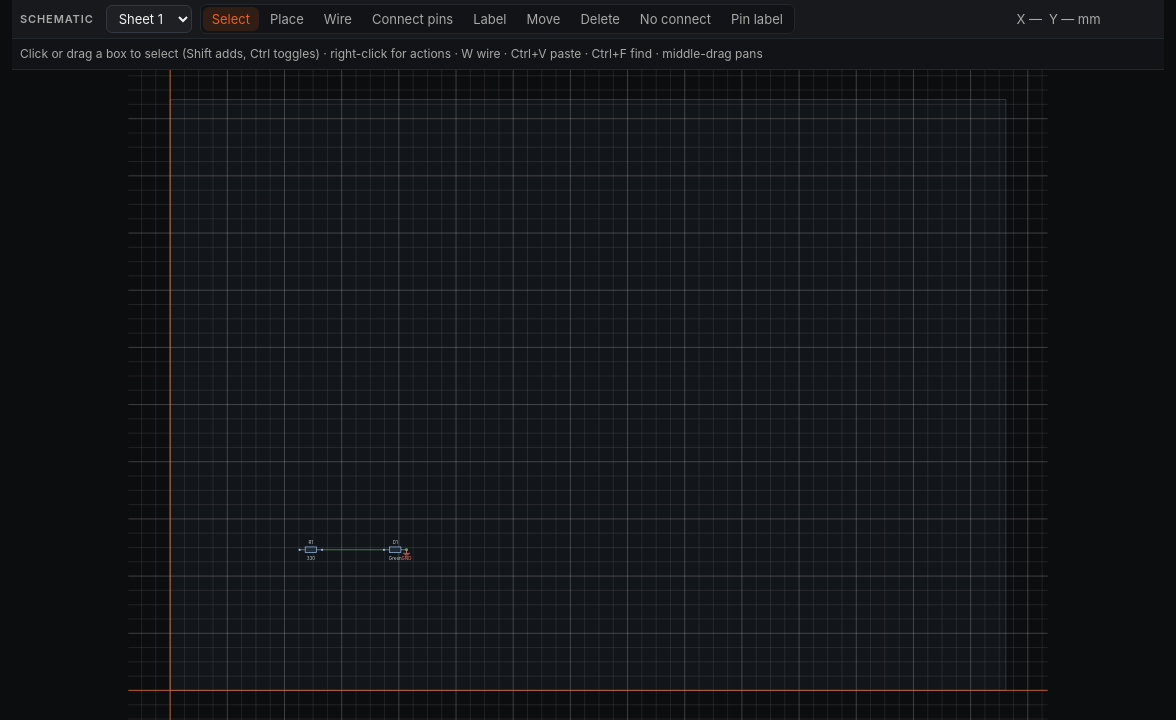
Test: slice B3 editing set in the schematic editor › publishes its operations for the action registry; each multi-object edit is one Batch
Press a
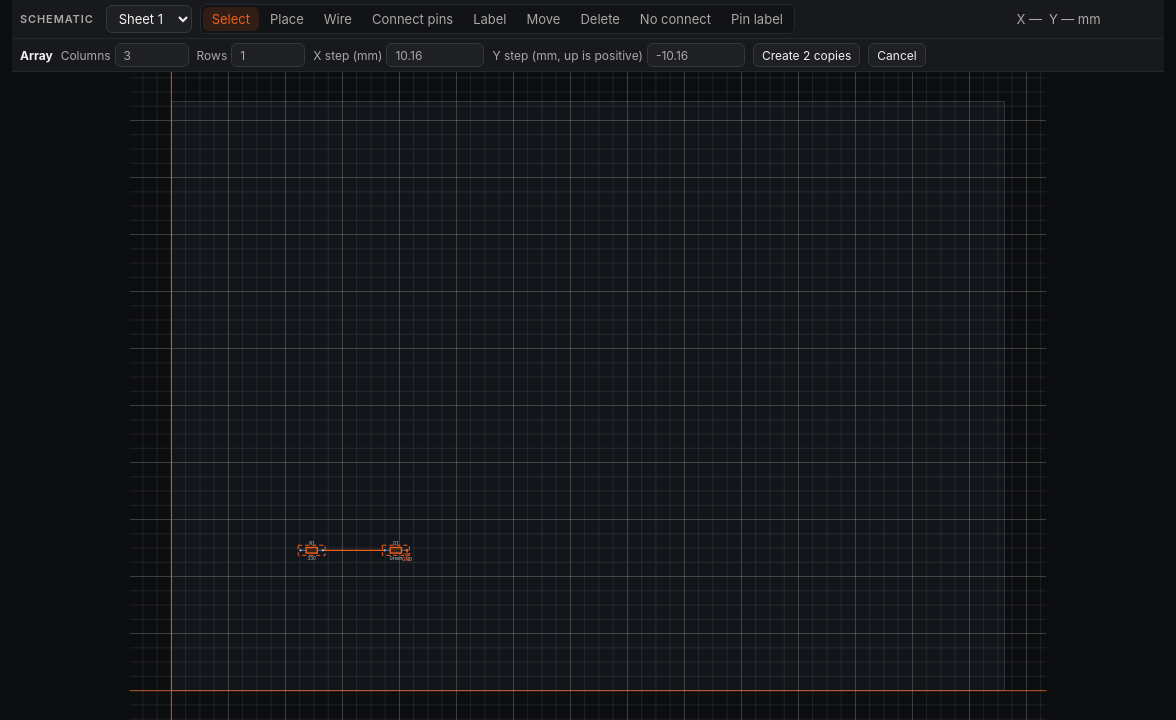
// Array: an inline panel, then one Batch of copies
Replace the text in the field labelled "Columns" with "2" at (152, 55), box [115, 43, 189, 67]
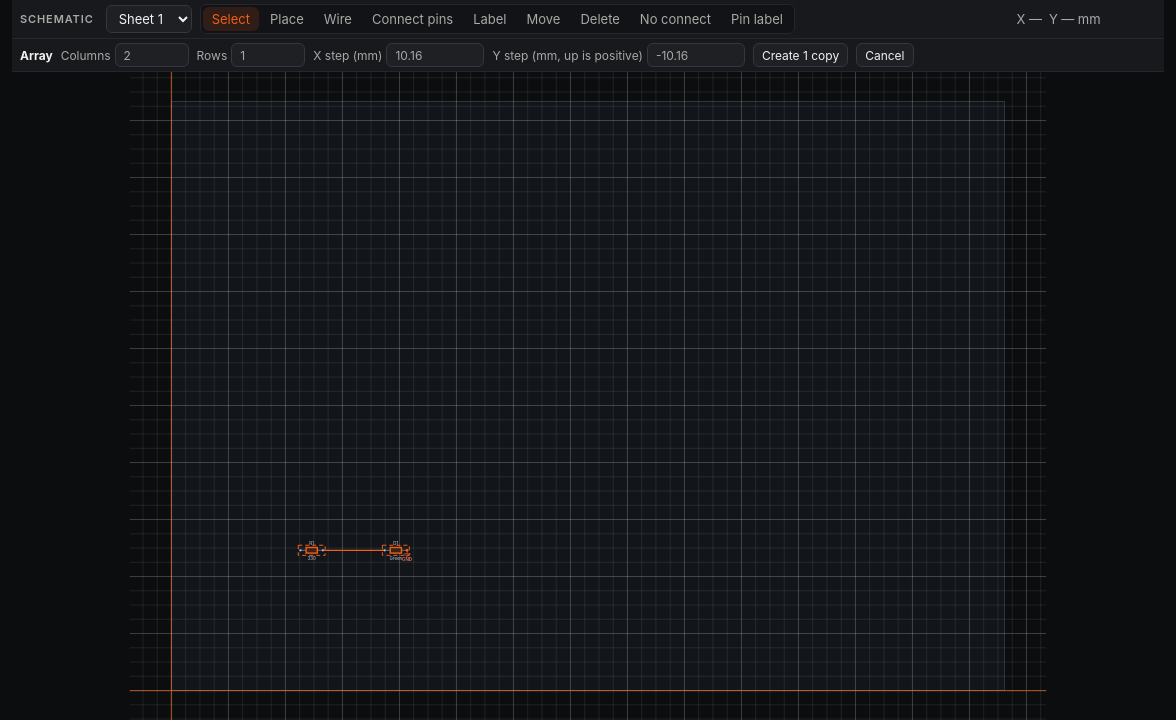
Click the button "Create 1 copy" at (801, 55), box [753, 43, 848, 67]
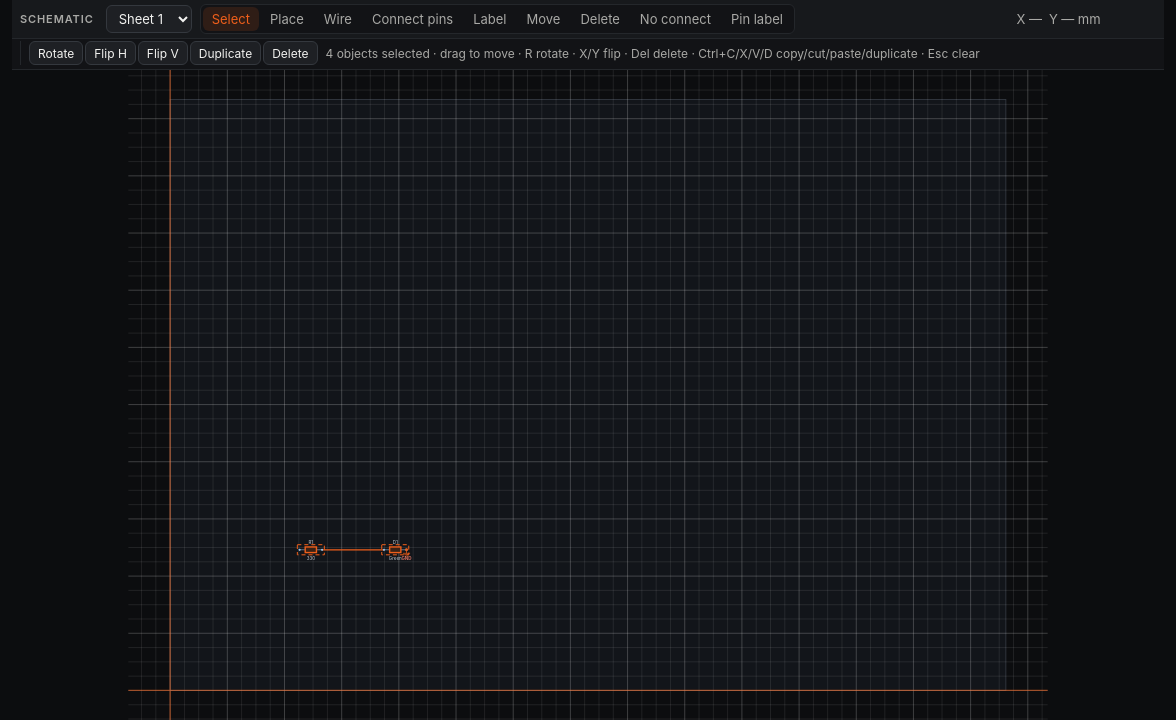
Expected: the text "Array" is gone
